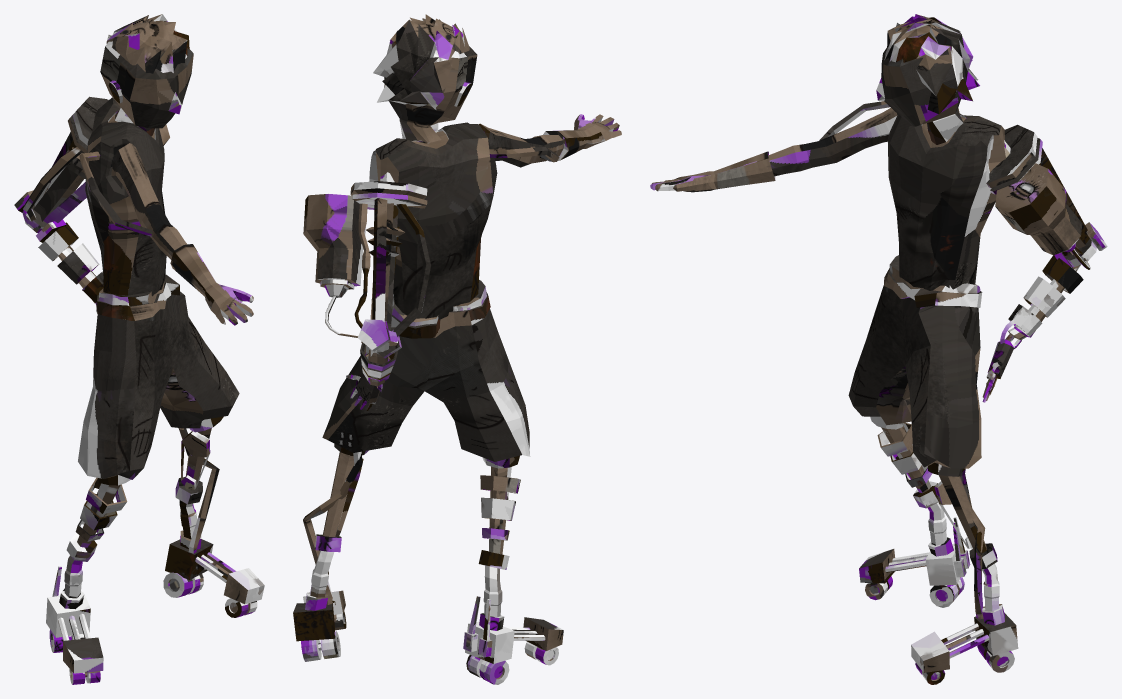
Rendered from CyborgFINALAnimation_000010.obj.
3 renders of one model, left to right at view 1: azimuth 30°, elevation 25°; view 2: azimuth 150°, elevation 25°; view 3: azimuth 270°, elevation 25°, orthographic. The views are drawn at different scales.
Visible parts, largest first — view 1: CyborgMesh_Cube.002; view 2: CyborgMesh_Cube.002; view 3: CyborgMesh_Cube.002.
Part boxes in pixels (<box>): CyborgMesh_Cube.002: <box>14,14,264,684</box>; CyborgMesh_Cube.002: <box>293,14,621,684</box>; CyborgMesh_Cube.002: <box>650,14,1107,684</box>.
Bounding box in the file's own units: 3.49 × 9.55 × 6.4.
